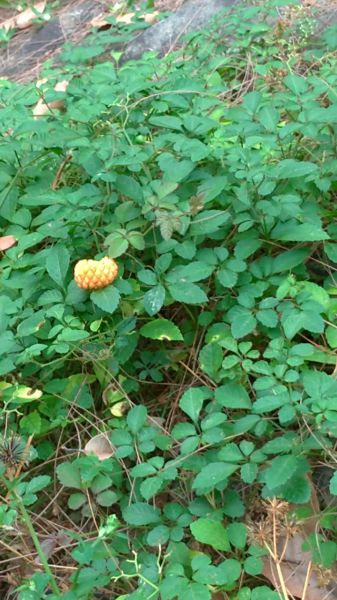eggs: (71, 246, 123, 294)
